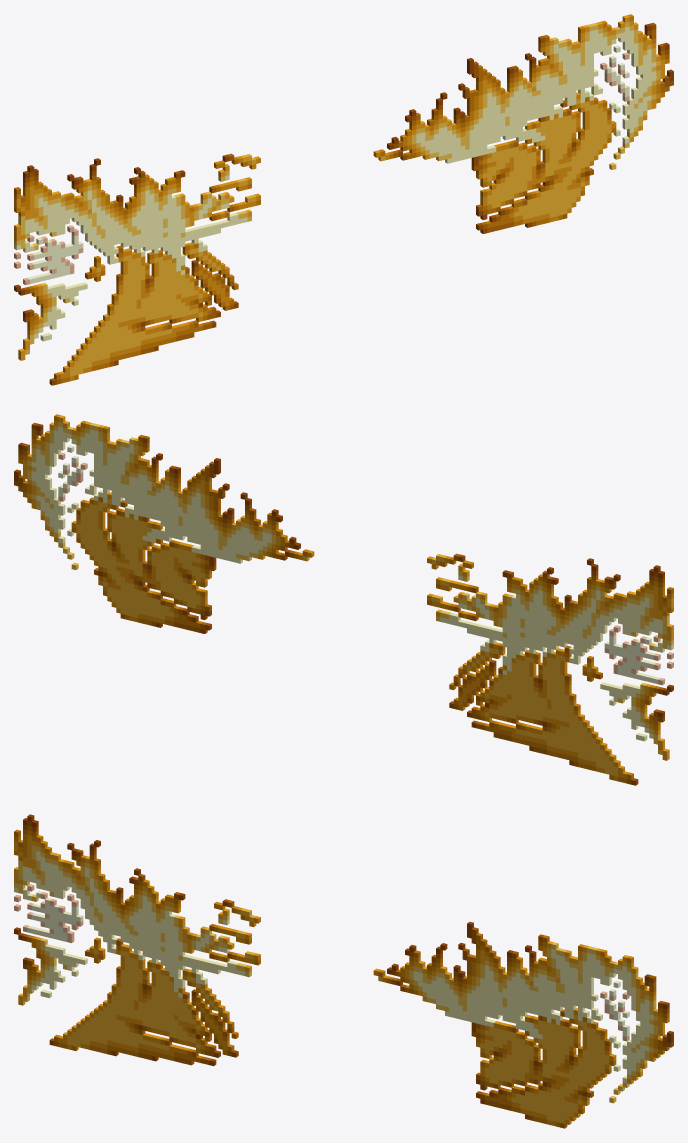
Rendered from Fight_756_2_05_fx.obj.
3 renders of one model, top to bottom at view 1: azimuth 30°, elevation 25°; view 2: azimuth 150°, elevation 25°; view 3: azimuth 330°, elevation 25°, orthographic.
Bounding box in the file's own units: 14.8 × 4.9 × 0.1.
1 material, 1 textured.
